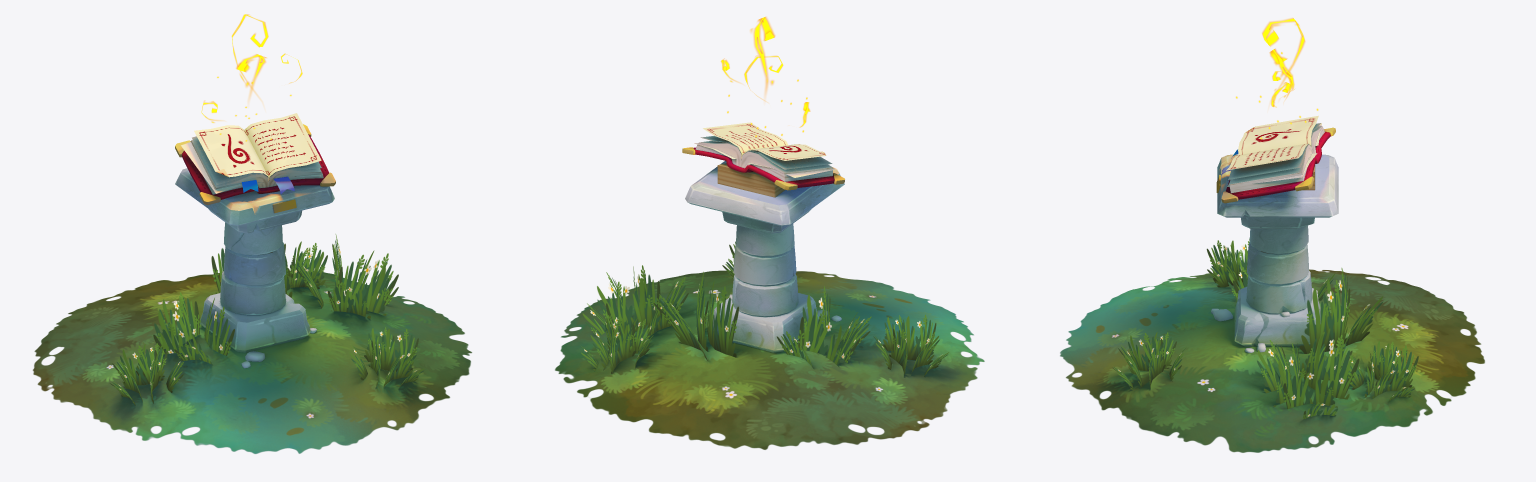
The model's file is magic_tome.glb.
3 views of the same model, side by side, from view 1: azimuth 30°, elevation 25°; view 2: azimuth 150°, elevation 25°; view 3: azimuth 270°, elevation 25° (orthographic).
Parts seen in each view (by area): view 1: Ground_21, GrassTufts_23, BookPaper.002_3, ColumnBase_12, ColumnSurface_17, ColumnSection.002_15, ColumnSection.003_16, ColumnSection.001_14, BookCover_0, BookPaper_1, Effect_19, ColumnBase.001_13 (+3 smaller); view 2: Ground_21, GrassTufts_23, ColumnSurface_17, ColumnBase_12, BookPaper.002_3, ColumnSection.002_15, ColumnSection.003_16, BookPaper_1, ColumnSection.001_14, BookSupport_5, Effect_19, BookCover_0 (+2 smaller); view 3: Ground_21, GrassTufts_23, ColumnSurface_17, ColumnBase_12, BookPaper.002_3, ColumnSection.002_15, ColumnSection.003_16, BookPaper_1, ColumnSection.001_14, Effect_19, BookCover_0, BookPaper.001_2 (+1 smaller).
Part boxes in pixels (<box>): Ground_21: <box>33,270,471,453</box>; GrassTufts_23: <box>110,234,423,405</box>; BookPaper.002_3: <box>194,113,321,181</box>; ColumnBase_12: <box>200,293,310,352</box>; ColumnSurface_17: <box>175,168,334,225</box>; ColumnSection.002_15: <box>220,271,285,315</box>; ColumnSection.003_16: <box>224,242,285,285</box>; ColumnSection.001_14: <box>224,222,282,255</box>; BookCover_0: <box>182,134,328,199</box>; BookPaper_1: <box>190,140,323,194</box>; Effect_19: <box>201,14,302,122</box>; ColumnBase.001_13: <box>208,209,301,233</box>; Ground_21: <box>555,270,984,449</box>; GrassTufts_23: <box>581,241,948,376</box>; ColumnSurface_17: <box>685,160,844,225</box>; ColumnBase_12: <box>713,293,818,352</box>; BookPaper.002_3: <box>703,122,826,160</box>; ColumnSection.002_15: <box>732,274,798,316</box>; ColumnSection.003_16: <box>733,244,796,285</box>; BookPaper_1: <box>695,141,832,181</box>; ColumnSection.001_14: <box>736,224,794,256</box>; BookSupport_5: <box>717,163,785,197</box>; Effect_19: <box>721,17,810,127</box>; BookCover_0: <box>693,147,834,187</box>; Ground_21: <box>1060,269,1484,452</box>; GrassTufts_23: <box>1112,239,1418,419</box>; ColumnSurface_17: <box>1217,154,1338,217</box>; ColumnBase_12: <box>1234,286,1320,346</box>; BookPaper.002_3: <box>1226,115,1318,170</box>; ColumnSection.002_15: <box>1246,271,1312,313</box>; ColumnSection.003_16: <box>1247,242,1308,284</box>; BookPaper_1: <box>1229,126,1324,193</box>; ColumnSection.001_14: <box>1249,225,1308,254</box>; Effect_19: <box>1262,18,1305,107</box>; BookCover_0: <box>1226,132,1330,199</box>; BookPaper.001_2: <box>1228,123,1320,179</box>.
Size of the model in its own units: 4.95 by 3.93 by 4.95.
3 materials, 3 textured.
